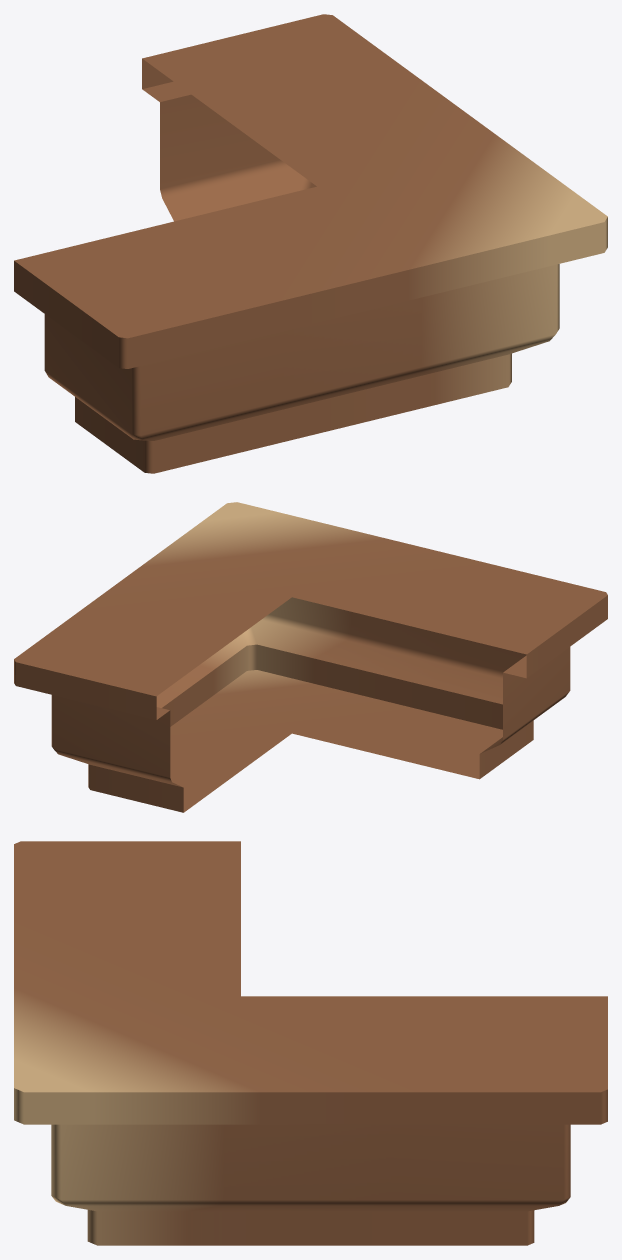
Rendered from DBK_Trim_A_Cap_Corner.fbx.
The picture shows the model from 3 angles, top to bottom: view 1: azimuth 30°, elevation 25°; view 2: azimuth 150°, elevation 25°; view 3: azimuth 270°, elevation 25°; orthographic projection. The views are drawn at different scales.
Parts seen in each view (by area): view 1: DBK_Trim_A_Cap_Corner; view 2: DBK_Trim_A_Cap_Corner; view 3: DBK_Trim_A_Cap_Corner.
Boxes of the visible parts, <box> form: DBK_Trim_A_Cap_Corner: <box>14,14,607,473</box>; DBK_Trim_A_Cap_Corner: <box>14,502,607,812</box>; DBK_Trim_A_Cap_Corner: <box>14,841,607,1245</box>.
Size of the model in its own units: 76.74 by 26.31 by 76.74.
